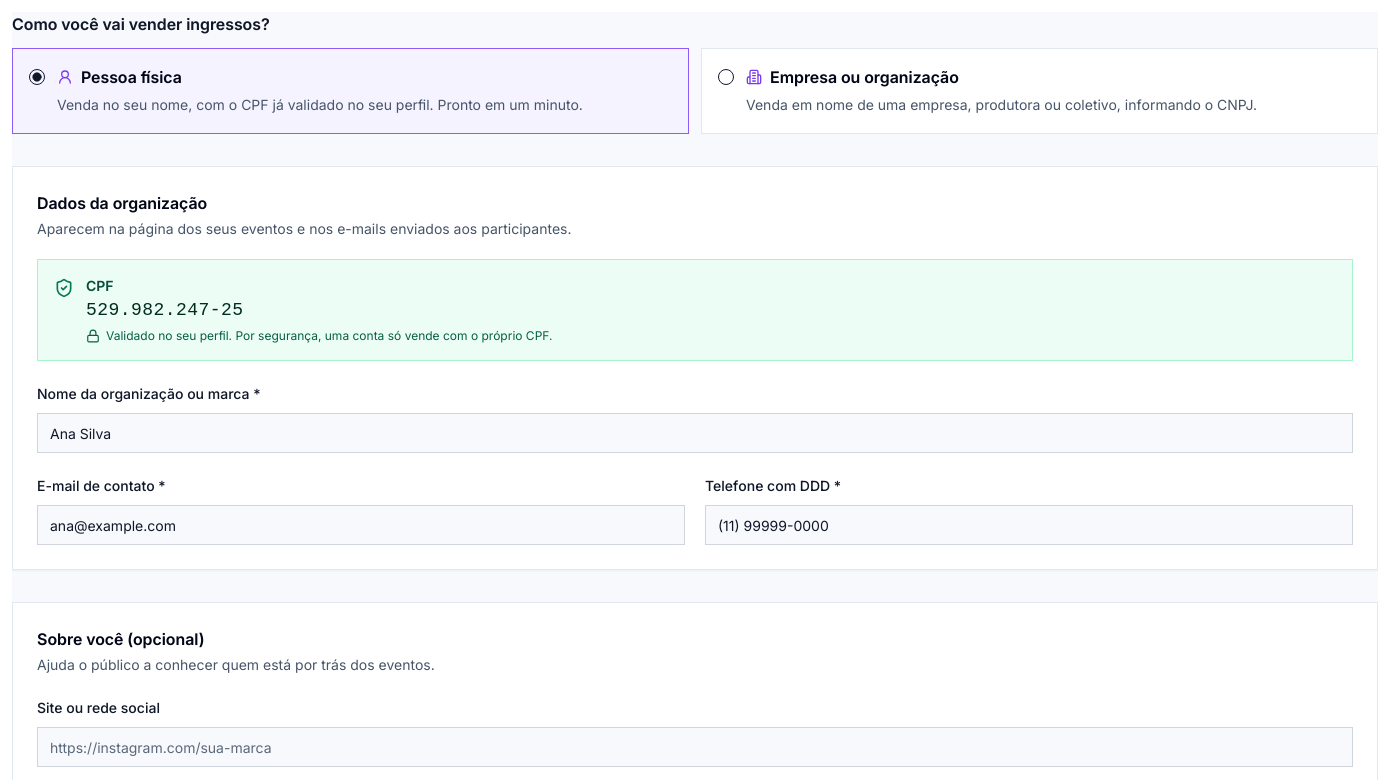
OrganizerSignupForm › switches to a company: asks for the CNPJ and the brand name, keeping the contact data
Click the radio button named "empresa ou organização" next to "Empresa ou organização" at (726,77), box [718,69,734,85]
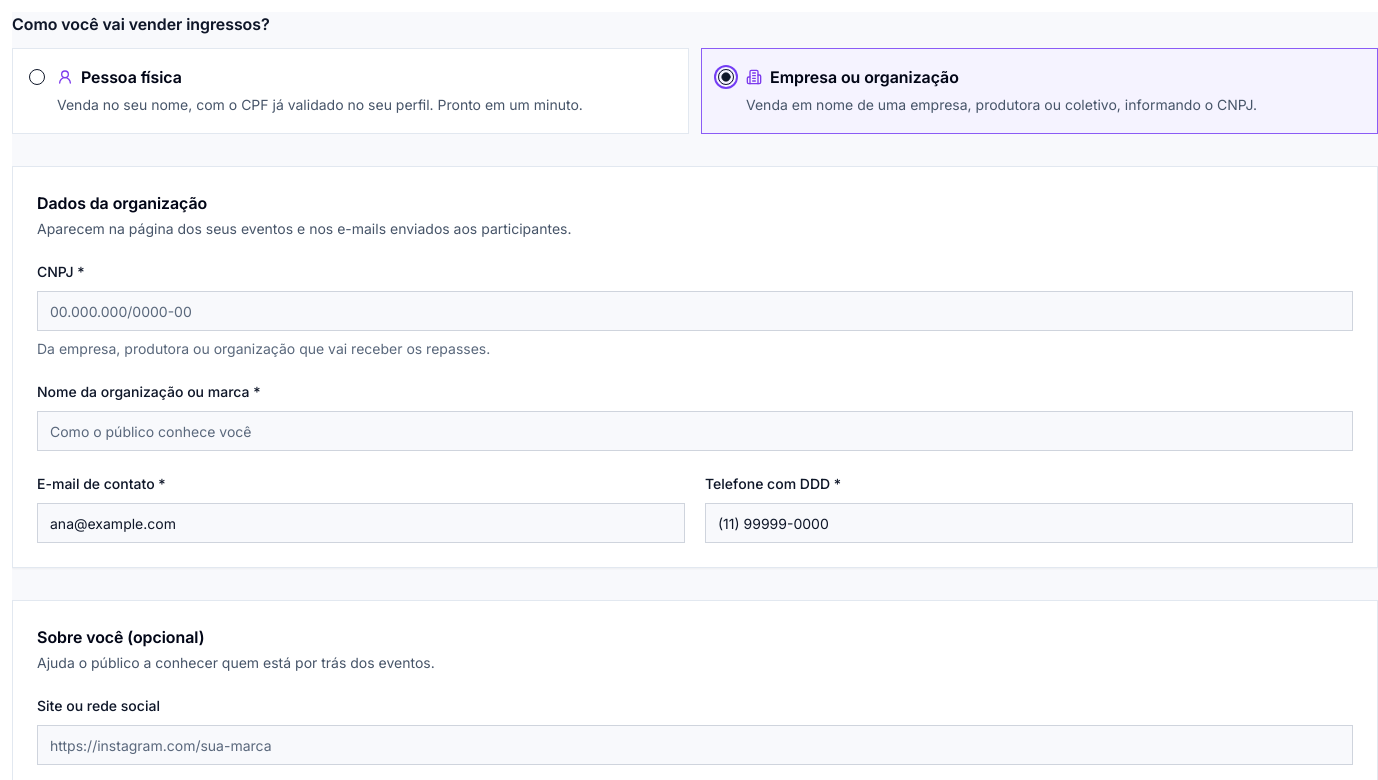
Expected: the field labelled "CNPJ *" is empty, [37,291,1353,331]
Expected: the field labelled "Nome da organização ou marca *" is empty, [37,411,1353,451]
Expected: the text "529.982.247-25" is gone
